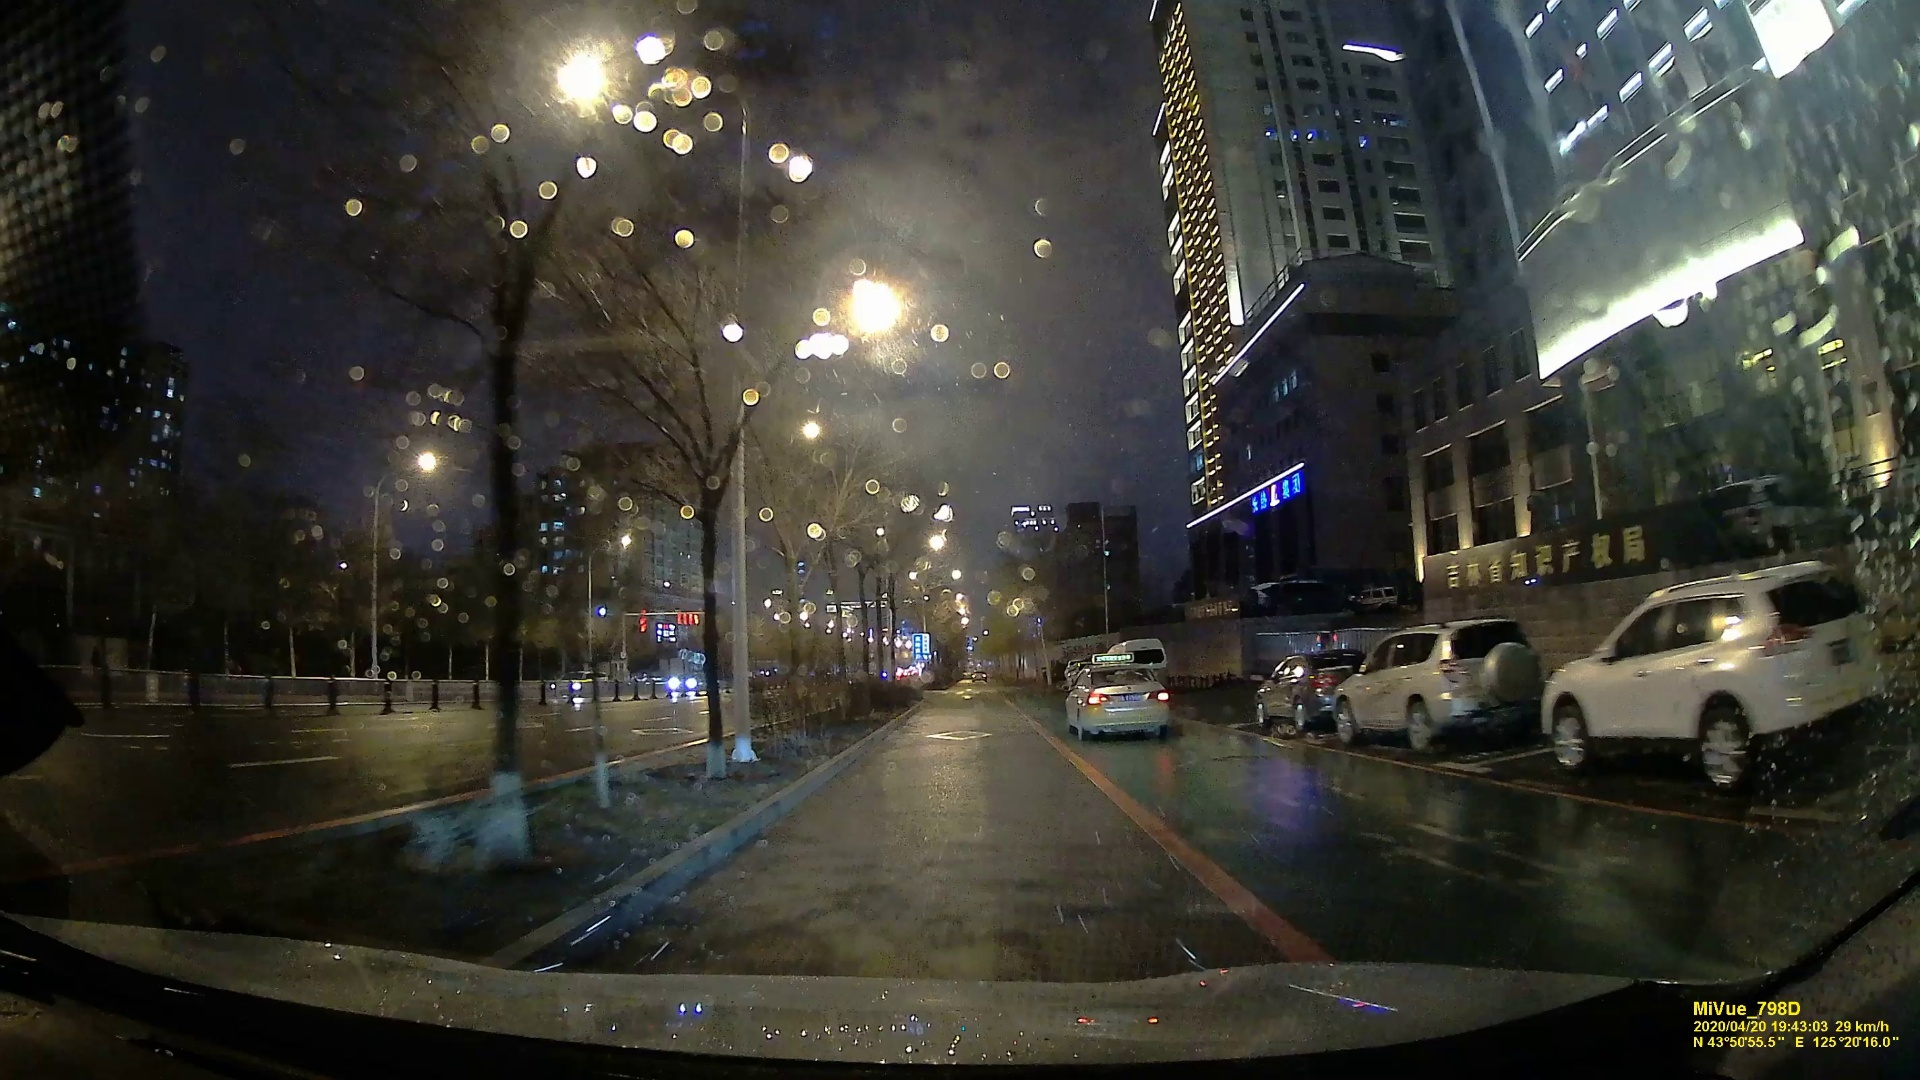vehicle: (1551, 564, 1895, 785), (1338, 620, 1545, 748), (1067, 658, 1168, 746), (551, 669, 607, 696), (669, 669, 704, 694)
